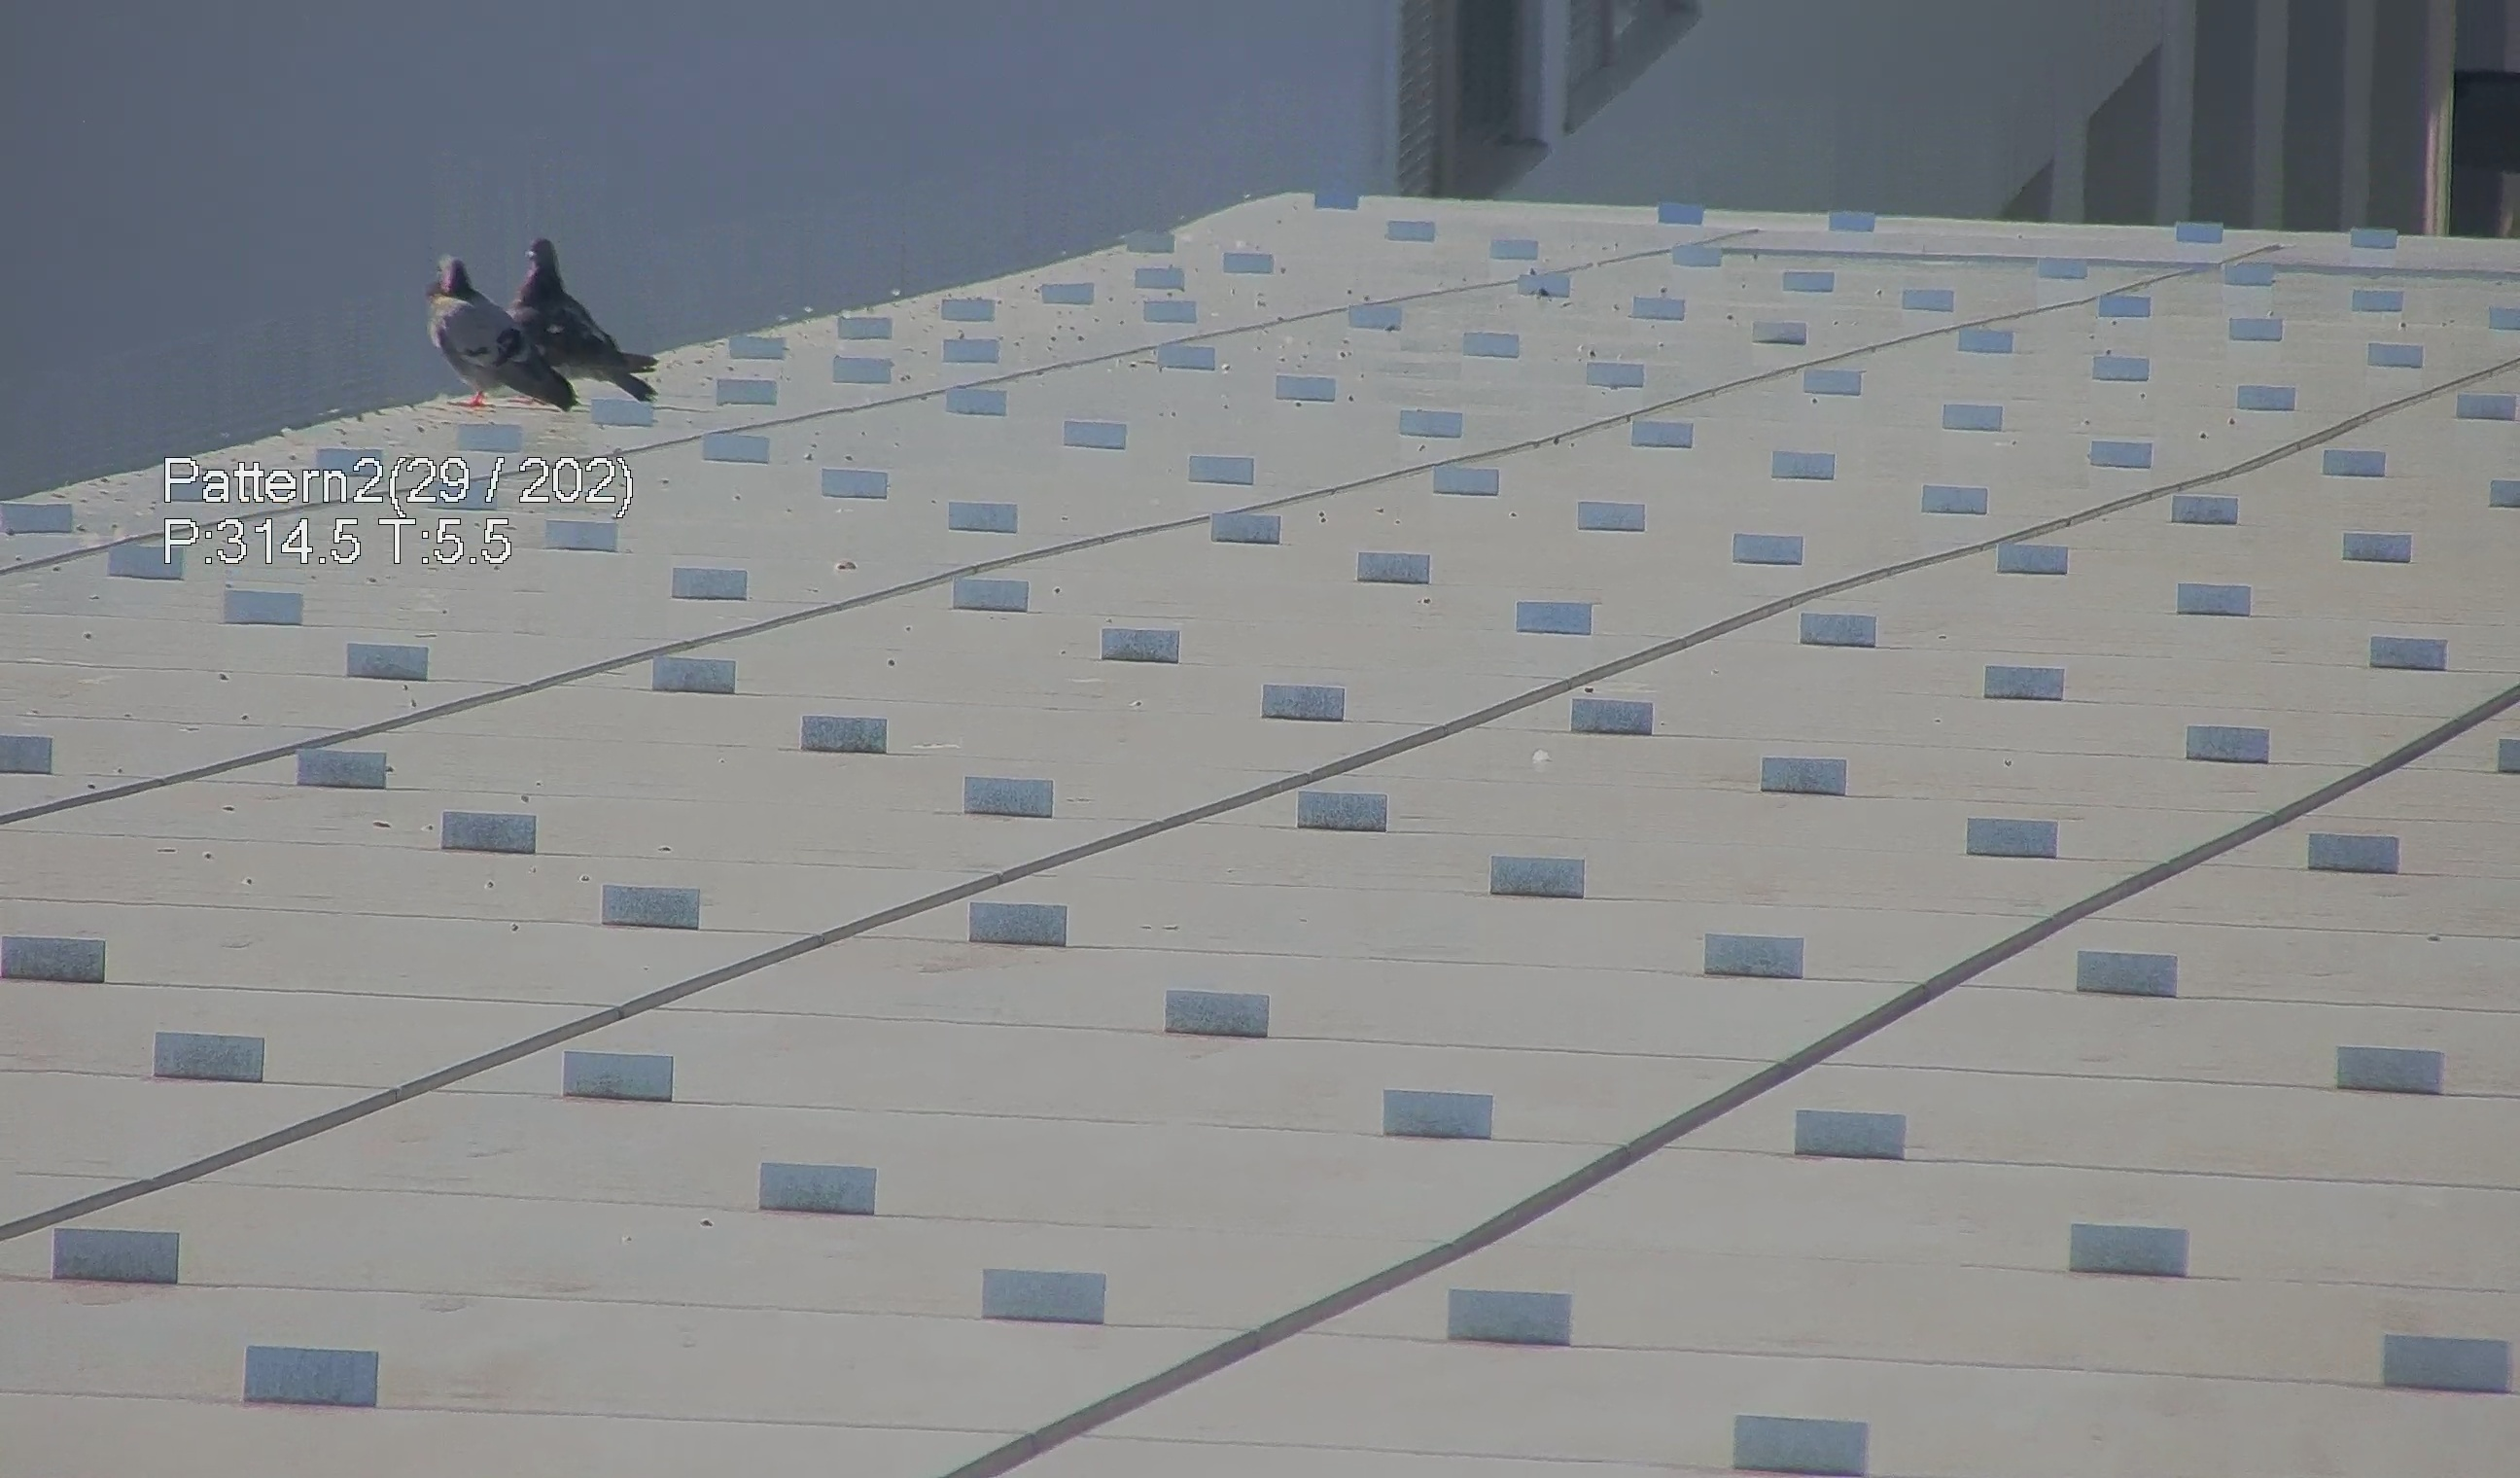Pigeon: (499, 229, 651, 412), (401, 248, 552, 417)
